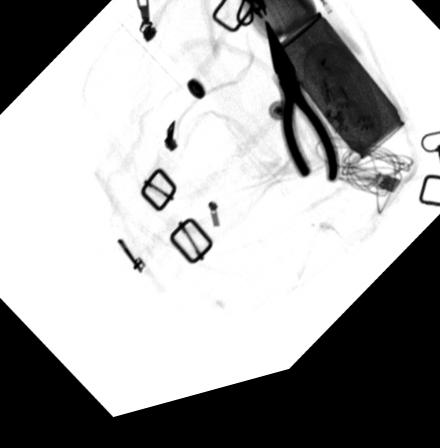Pliers: (263, 34, 339, 202)
